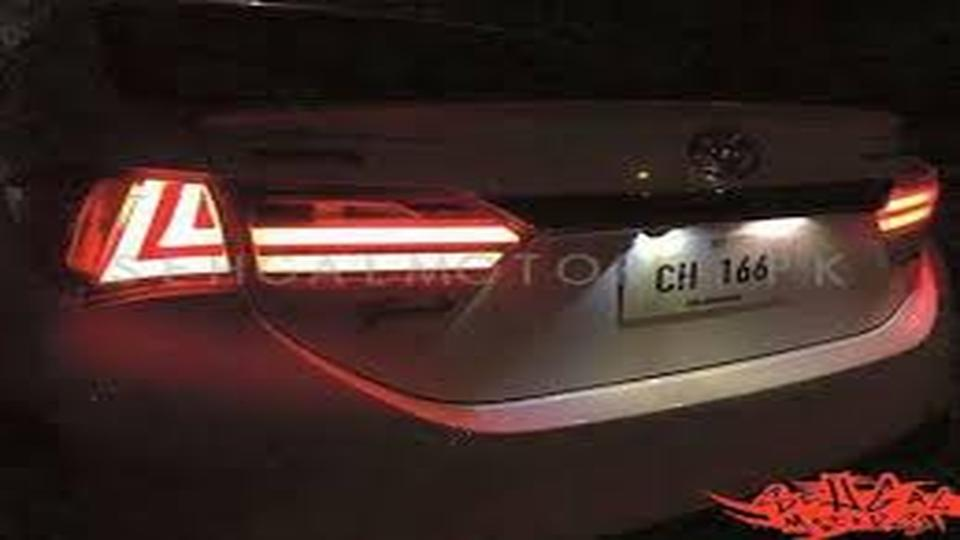NumberPlate: (629, 235, 782, 316)
